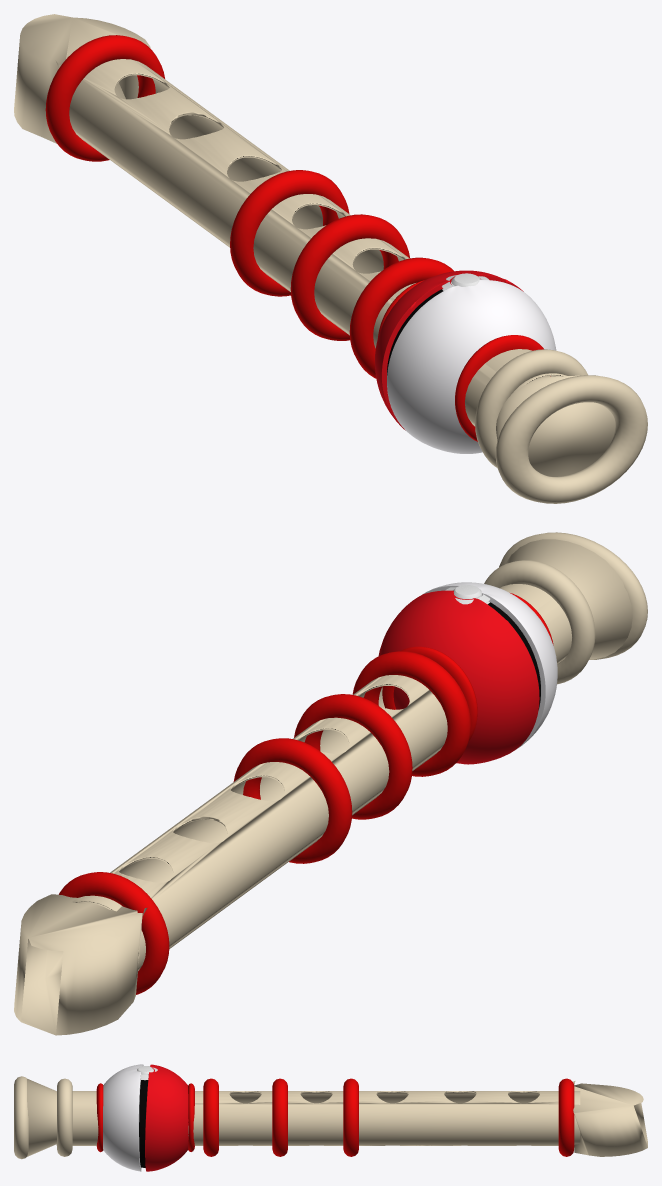
The model's file is pokeFlute.fbx.
3 renders of one model, top to bottom at view 1: azimuth 30°, elevation 25°; view 2: azimuth 150°, elevation 25°; view 3: azimuth 270°, elevation 25°, orthographic. The views are drawn at different scales.
Visible parts, largest first — view 1: Cylinder, Sphere, Torus.007, Cylinder.007, Cone, Torus.003, Torus.002, Torus.001, Torus.006, Torus, Torus.005; view 2: Cylinder, Sphere, Cylinder.007, Cone, Torus.002, Torus.001, Torus, Torus.006, Torus.003, Torus.007, Torus.004; view 3: Cylinder, Sphere, Cylinder.007, Cone, Torus.003, Torus.001, Torus.006, Torus, Torus.002, Torus.007, Sphere.001, Torus.004 (+1 smaller).
Boxes of the visible parts, x1,y1,x2,y2 form: Cylinder: (69,59,566,425); Sphere: (375,270,556,453); Torus.007: (495,375,647,503); Cylinder.007: (14,14,150,143); Cone: (496,375,615,476); Torus.003: (45,35,164,161); Torus.002: (230,170,349,296); Torus.001: (290,214,410,340); Torus.006: (475,349,587,467); Torus: (349,257,453,378); Torus.005: (455,335,550,441); Cylinder: (72,584,571,970); Sphere: (378,582,557,764); Cylinder.007: (14,894,147,1035); Cone: (505,539,632,659); Torus.002: (233,738,352,863); Torus.001: (294,694,412,819); Torus: (352,651,470,776); Torus.006: (484,560,595,684); Torus.003: (59,872,169,994); Torus.007: (499,532,647,659); Torus.004: (382,646,477,740); Cylinder: (56,1091,580,1145); Sphere: (103,1064,188,1171); Cylinder.007: (573,1081,647,1156); Cone: (27,1078,56,1156); Torus.003: (558,1078,574,1156); Torus.001: (272,1078,287,1156); Torus.006: (57,1078,72,1156); Torus: (203,1078,218,1156); Torus.002: (343,1078,358,1156); Torus.007: (14,1076,28,1159); Sphere.001: (139,1080,148,1167); Torus.004: (188,1083,194,1151).
Bounding box in the file's own units: 198 × 194 × 1174.
